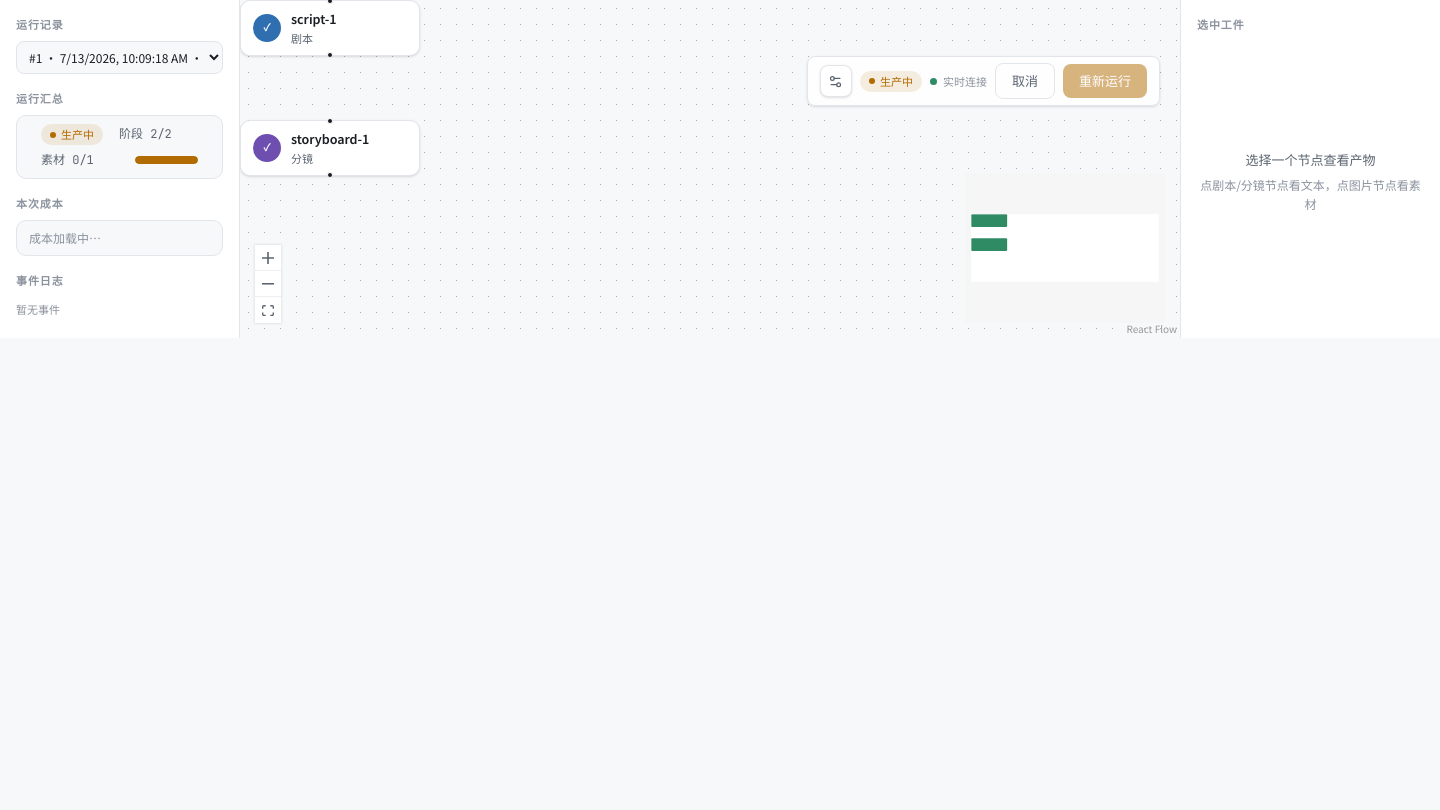
Scenario: RunCanvas per-item inspector (P5d) › storyboard fan-out: ItemInspector renders the N items in the right rail (coexists with drawer)
This screenshot has width=1440, height=810.
Click the element with class "react-flow__node" showing "✓ storyboard-1 分镜" at (330, 152), box x1=240 y1=120 x2=420 y2=184
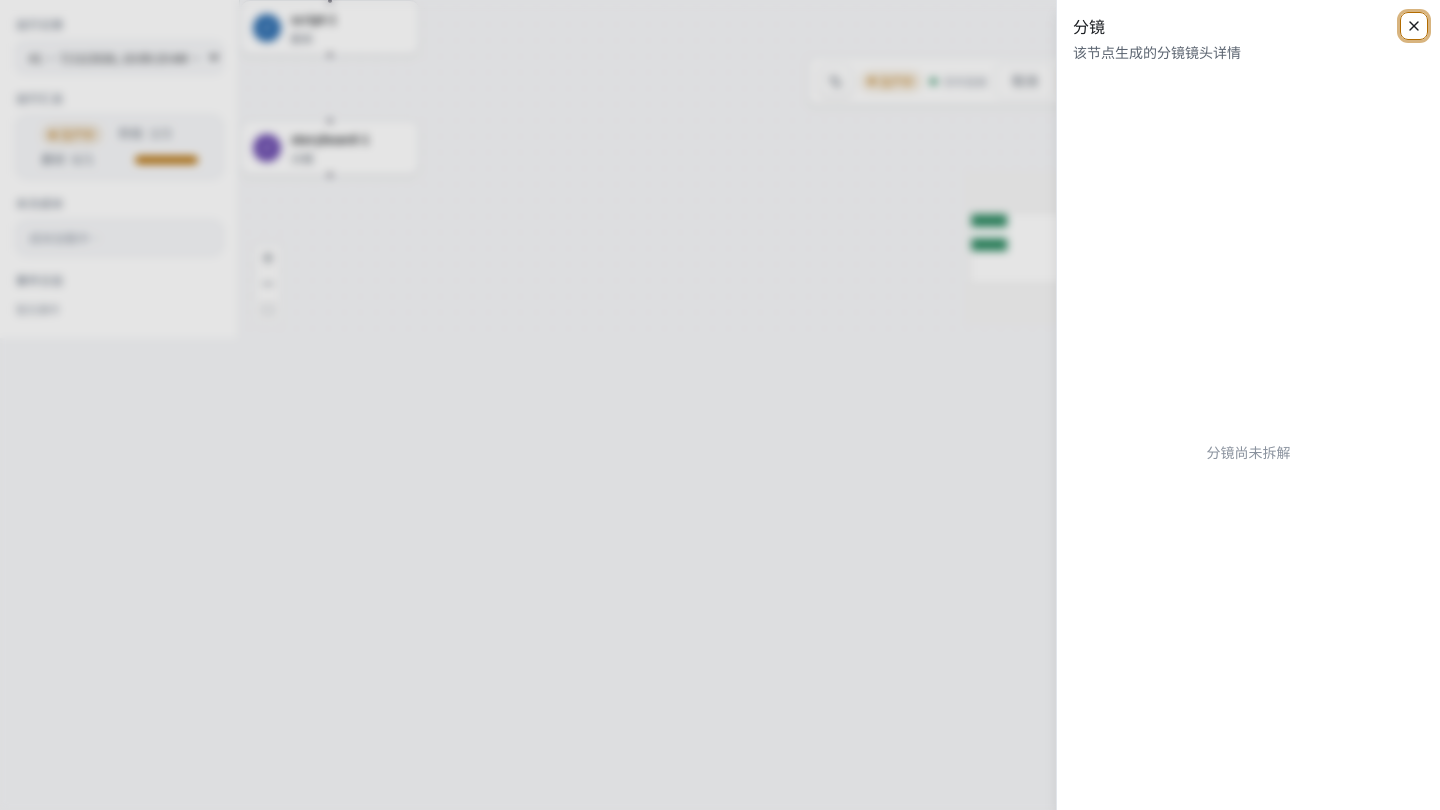
Expected: the text "3 项 · 第 1 项" is shown, x1=1197 y1=44 x2=1266 y2=61
